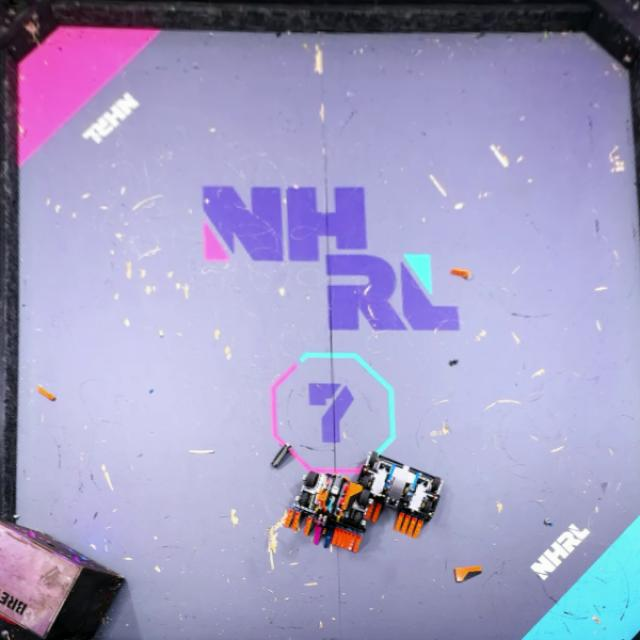housebot: (0, 520, 128, 640)
robot: (356, 451, 444, 539), (285, 471, 371, 554)
